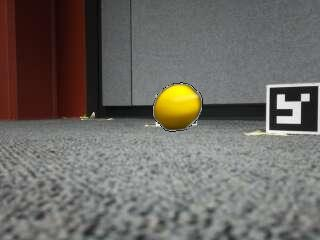lemon: (156, 85, 201, 129)
